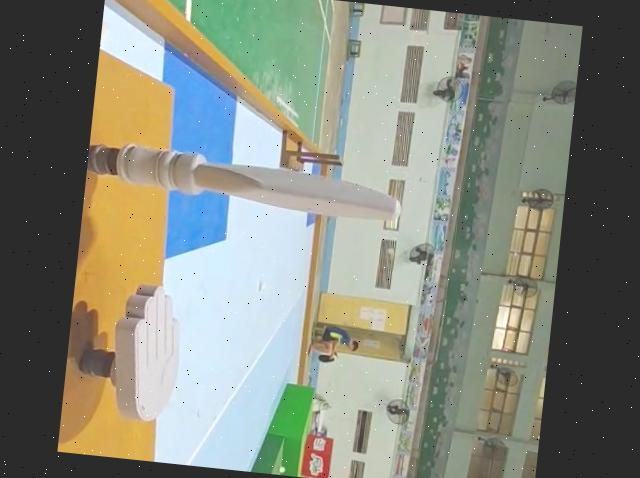Hand: (72, 268, 194, 427)
Sph: (85, 134, 406, 224)
